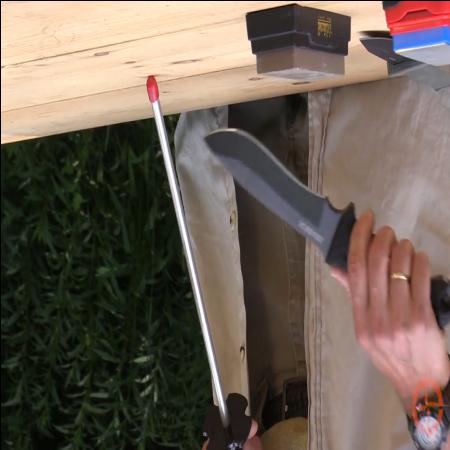long weapon: (196, 113, 450, 344)
